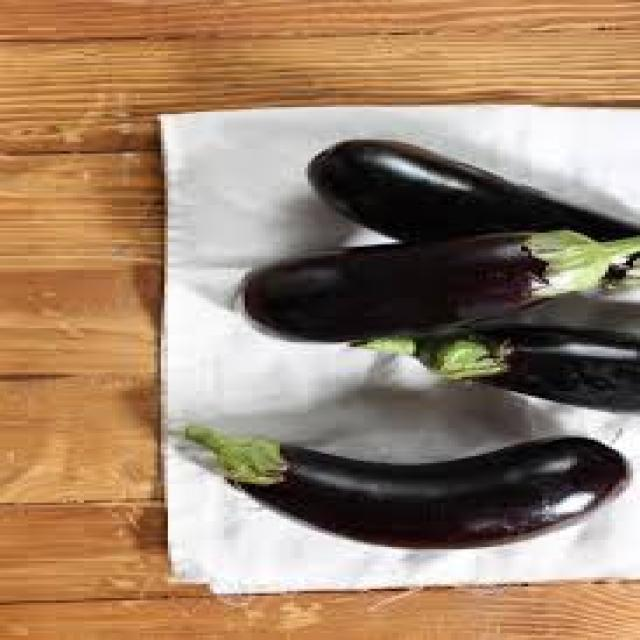eggplant: (155, 415, 640, 558)
